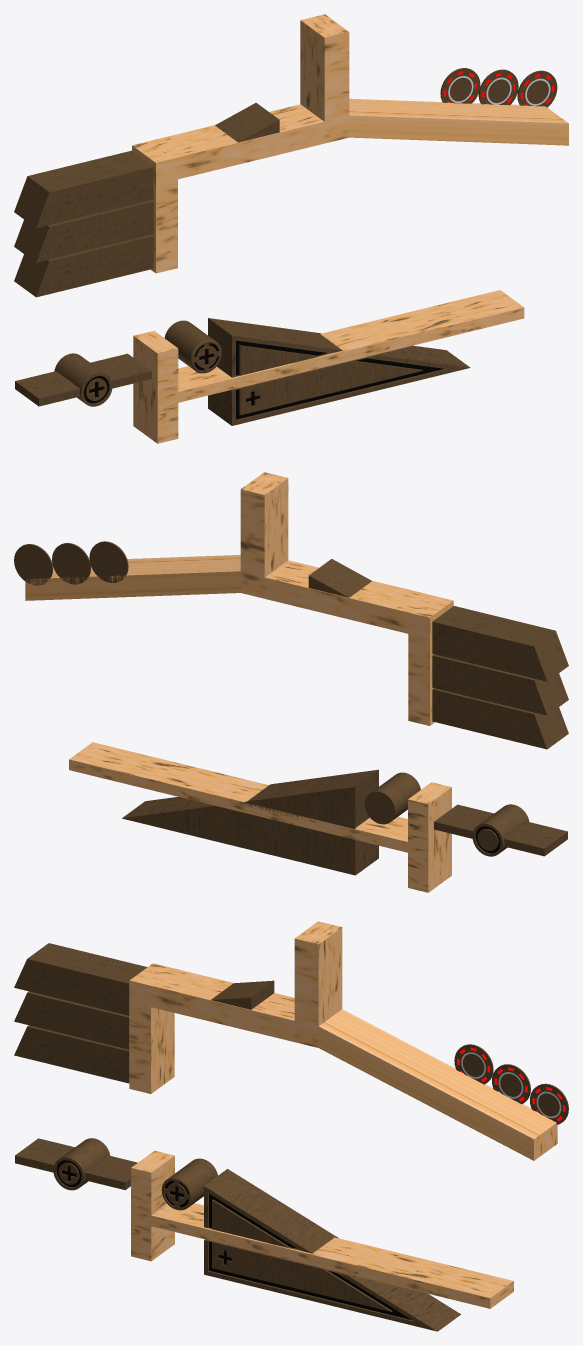
File: level12.fbx
3 renders of one model, top to bottom at view 1: azimuth 30°, elevation 25°; view 2: azimuth 150°, elevation 25°; view 3: azimuth 330°, elevation 25°, orthographic. The views are drawn at different scales.
Parts seen in each view (by area): view 1: Cube.033, Cube.032, Cube.031, PullTop, PullMid, PullBottom, Cube.030, PullableTag.003, Pullable.009, Ramp.001, TagSensor.007, TagSensor.005 (+1 smaller); view 2: Cube.033, Cube.031, Cube.032, PullTop, PullMid, PullBottom, Cube.030, PullableTag.003, Pullable.009, Ramp.001, TagSensor.005, TagSensor.006 (+1 smaller); view 3: Cube.033, Cube.031, Cube.032, PullTop, PullMid, PullBottom, Cube.030, PullableTag.003, Pullable.009, Ramp.001, TagSensor.005, TagSensor.007 (+1 smaller).
Part boxes in pixels (bbox=[...]): Cube.033: bbox=[132, 14, 568, 273]; Cube.032: bbox=[133, 290, 524, 443]; Cube.031: bbox=[208, 318, 470, 425]; PullTop: bbox=[14, 150, 153, 228]; PullMid: bbox=[14, 200, 153, 262]; PullBottom: bbox=[14, 234, 153, 297]; Cube.030: bbox=[15, 353, 151, 406]; PullableTag.003: bbox=[164, 320, 221, 373]; Pullable.009: bbox=[54, 353, 112, 406]; Ramp.001: bbox=[215, 103, 279, 142]; TagSensor.007: bbox=[517, 70, 557, 107]; TagSensor.005: bbox=[440, 68, 480, 103]; Cube.033: bbox=[25, 472, 453, 725]; Cube.031: bbox=[122, 769, 378, 875]; Cube.032: bbox=[69, 742, 451, 892]; PullTop: bbox=[432, 606, 568, 681]; PullMid: bbox=[432, 654, 568, 715]; PullBottom: bbox=[432, 688, 568, 749]; Cube.030: bbox=[434, 804, 567, 856]; PullableTag.003: bbox=[364, 772, 420, 824]; Pullable.009: bbox=[472, 804, 529, 856]; Ramp.001: bbox=[308, 559, 371, 597]; TagSensor.005: bbox=[89, 541, 128, 582]; TagSensor.006: bbox=[52, 543, 90, 584]; Cube.033: bbox=[129, 921, 557, 1160]; Cube.031: bbox=[204, 1169, 460, 1331]; Cube.032: bbox=[131, 1150, 513, 1308]; PullTop: bbox=[14, 943, 147, 1015]; PullMid: bbox=[14, 991, 129, 1049]; PullBottom: bbox=[14, 1025, 129, 1083]; Cube.030: bbox=[15, 1138, 137, 1190]; PullableTag.003: bbox=[161, 1158, 217, 1210]; Pullable.009: bbox=[53, 1138, 110, 1190]; Ramp.001: bbox=[211, 980, 274, 1009]; TagSensor.005: bbox=[454, 1044, 493, 1084]; TagSensor.007: bbox=[530, 1083, 568, 1124].
Size of the model in its own units: 5215 by 450 by 3353.
